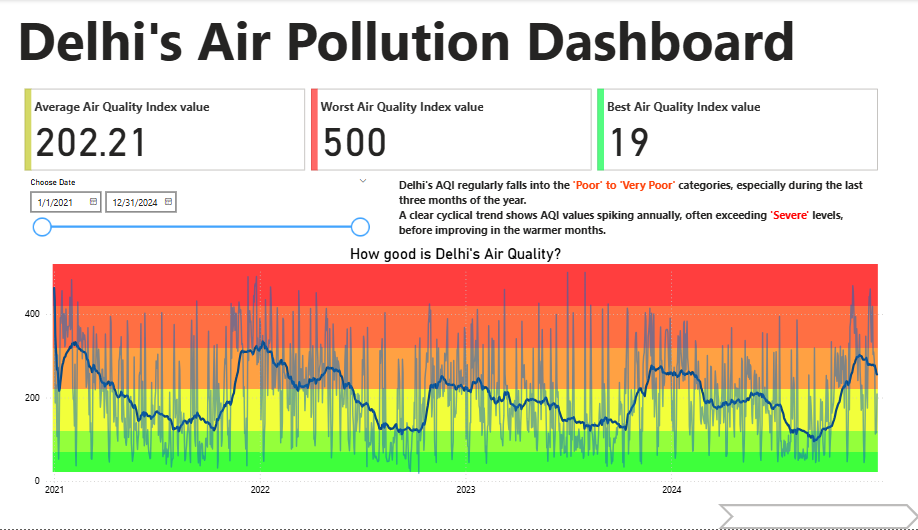

The page's visual inventory and layout, read from the dashboard file:
{"tool":"powerbi","page":{"name":"Page 1","canvas":[1280,720],"ordinal":0},"visuals":[{"type":"cardVisual","fields":{"Data":["Avg(final_dataset.AQI)","Max(final_dataset.AQI)1","Min(final_dataset.AQI)2"]},"box":[57.8,117,1169.9,121.1],"z":0},{"type":"textbox","box":[47.1,0,1180,117.1],"z":1000},{"type":"slicer","fields":{"Values":["final_dataset.Date"]},"box":[72.9,238.1,466.6,96.3],"z":2000},{"type":"actionButton","title":"See pollutants Breakdown","box":[1005.7,685.7,274.3,34.3],"z":3000},{"type":"columnChart","fields":{"Category":["final_dataset.Date.Variation.Date Hierarchy.Year","final_dataset.Date.Variation.Date Hierarchy.Quarter","final_dataset.Date.Variation.Date Hierarchy.Month","final_dataset.Date.Variation.Date Hierarchy.Day"],"Y":["AQI Category.AQI Good","AQI Category.AQI Satisfactory","AQI Category.AQI Moderate","AQI Category.AQI Poor","AQI Category.AQI Very Poor","AQI Category.AQI Severe"]},"box":[96.3,346.8,1131.4,302.8],"z":4000},{"type":"lineChart","title":"How good is Delhi''s Air Quality?","fields":{"Y":["final_dataset.AQI_Moving_Avg_30","Avg(final_dataset.AQI)"],"Category":["final_dataset.Date"]},"box":[57.8,334.5,1180.9,351],"z":5000},{"type":"textbox","box":[567.1,238.1,659.3,96.3],"z":6000}]}

Visuals, with their boxes in screenshot pixels (x1, y1, x2, y2), scaled from the page's 1280x720 canvas onto the 918x530 screenshot:
cardVisual - Avg(final_dataset.AQI) x Max(final_dataset.AQI)1: crop(41, 86, 880, 175)
textbox: crop(34, 0, 880, 86)
slicer - final_dataset.Date: crop(52, 175, 387, 246)
"See pollutants Breakdown" actionButton: crop(721, 505, 917, 529)
columnChart - final_dataset.Date.Variation.Date Hierarchy.Year x final_dataset.Date.Variation.Date Hierarchy.Quarter: crop(69, 255, 880, 478)
"How good is Delhi''s Air Quality?" lineChart: crop(41, 246, 888, 505)
textbox: crop(407, 175, 880, 246)
